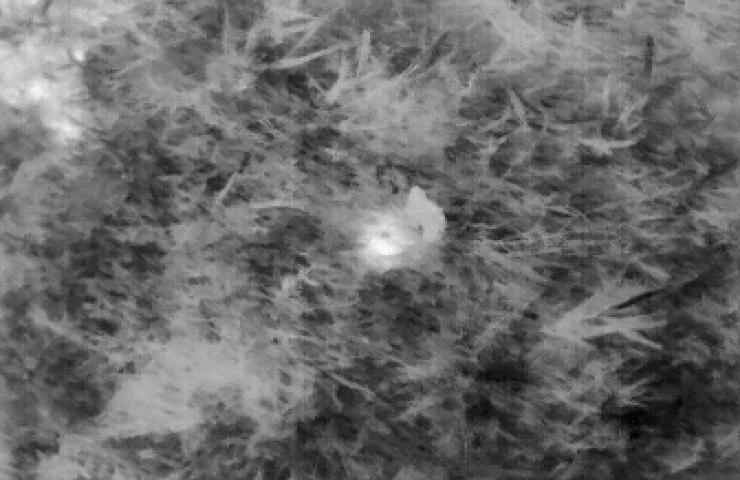landmines: (358, 211, 413, 258)
